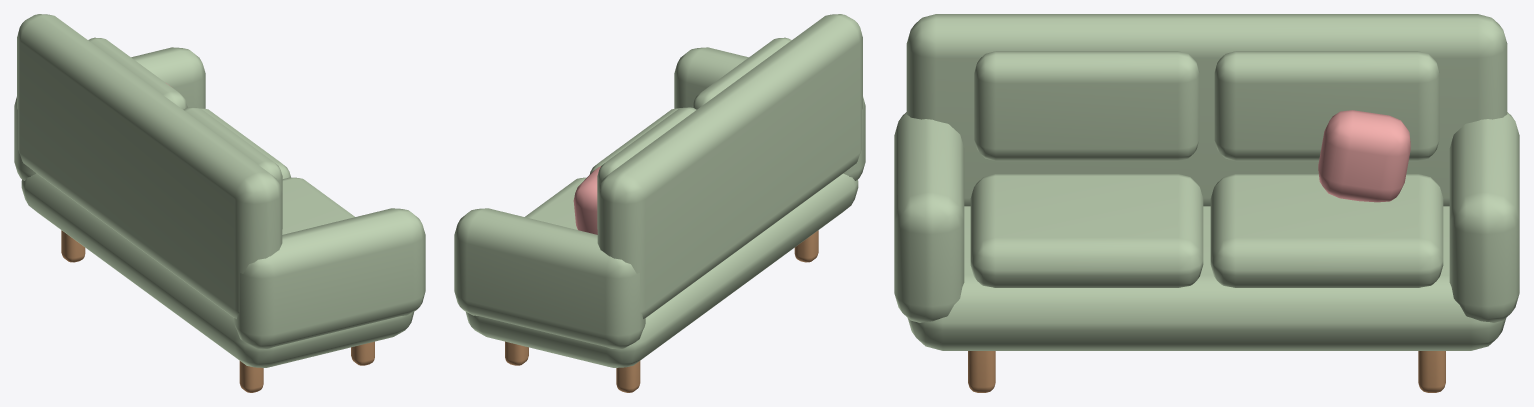
File: sofaB.glb
3 renders of one model, left to right at view 1: azimuth 30°, elevation 25°; view 2: azimuth 150°, elevation 25°; view 3: azimuth 270°, elevation 25°, orthographic. The views are drawn at different scales.
Parts seen in each view (by area): view 1: Upholstered back, Rounded arm, Sofa base, Rounded arm.001, Seat cushion, Back cushion, Back cushion.001, Leg.001, Leg.003, Seat cushion.001, Leg; view 2: Upholstered back, Rounded arm.001, Sofa base, Rounded arm, Back cushion.001, Seat cushion.001, Back cushion, Coral accent pillow, Leg.003, Leg.001, Leg.002, Seat cushion; view 3: Upholstered back, Sofa base, Seat cushion, Back cushion, Seat cushion.001, Back cushion.001, Rounded arm, Rounded arm.001, Coral accent pillow, Leg, Leg.002.
Part boxes in pixels (box(x1,y1,x2,y2)): Upholstered back: box(17, 14, 282, 318); Rounded arm: box(234, 208, 425, 349); Sofa base: box(21, 173, 413, 367); Rounded arm.001: box(14, 47, 205, 180); Seat cushion: box(282, 177, 354, 234); Back cushion: box(183, 107, 282, 228); Back cushion.001: box(88, 37, 187, 109); Leg.001: box(239, 361, 263, 392); Leg.003: box(61, 230, 85, 262); Seat cushion.001: box(199, 108, 290, 178); Leg: box(351, 341, 374, 365); Upholstered back: box(597, 14, 862, 318); Rounded arm.001: box(454, 208, 645, 349); Sofa base: box(466, 173, 858, 367); Rounded arm: box(674, 47, 865, 180); Back cushion.001: box(597, 107, 696, 228); Seat cushion.001: box(525, 177, 586, 229); Back cushion: box(692, 37, 791, 109); Coral accent pillow: box(573, 166, 600, 234); Leg.003: box(616, 361, 640, 392); Leg.001: box(794, 230, 818, 262); Leg.002: box(505, 341, 528, 365); Seat cushion: box(589, 108, 680, 174); Upholstered back: box(906, 14, 1507, 206); Sofa base: box(907, 206, 1506, 350); Seat cushion: box(970, 174, 1203, 287); Back cushion: box(974, 51, 1199, 161); Seat cushion.001: box(1210, 174, 1443, 287); Back cushion.001: box(1214, 51, 1439, 161); Rounded arm: box(894, 112, 964, 322); Rounded arm.001: box(1449, 112, 1519, 322); Coral accent pillow: box(1318, 110, 1410, 202); Leg: box(968, 351, 995, 392); Leg.002: box(1418, 351, 1445, 392).
Size of the model in its own units: 1.07 by 1.31 by 2.5.
